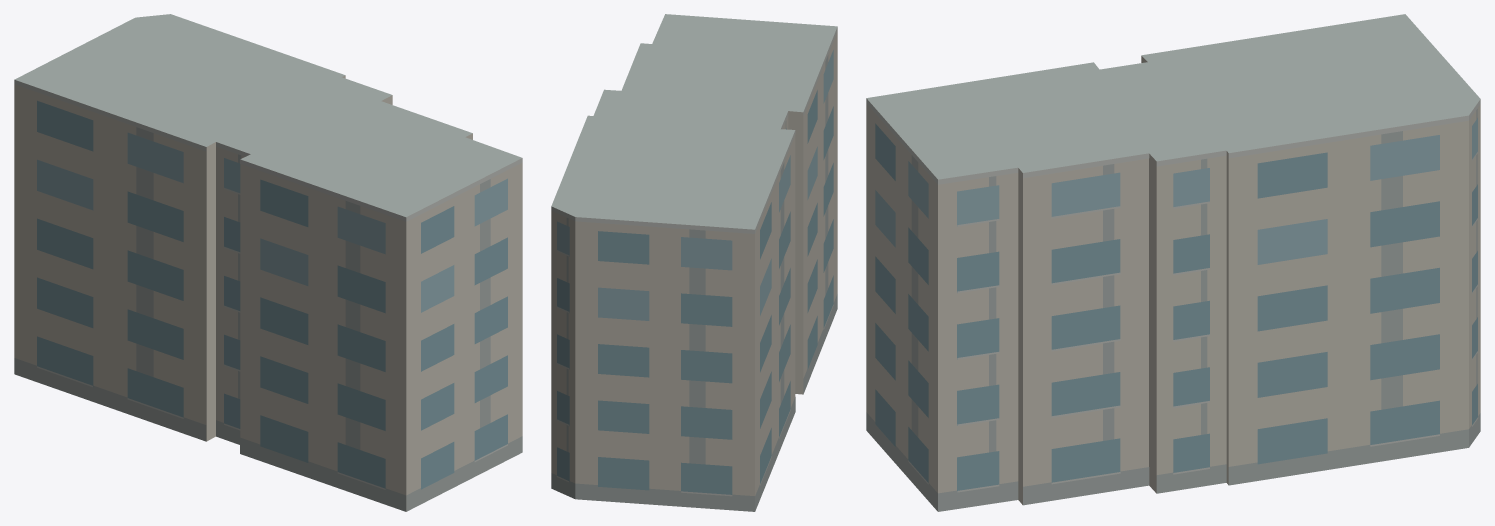
File: survey-upis-32768180.glb
3 renders of one model, left to right at view 1: azimuth 30°, elevation 25°; view 2: azimuth 150°, elevation 25°; view 3: azimuth 270°, elevation 25°, orthographic. The views are drawn at different scales.
Visible parts, largest first — view 1: survey-upis-32768180.tmp; view 2: survey-upis-32768180.tmp; view 3: survey-upis-32768180.tmp.
Boxes of the visible parts, x1,y1,x2,y2 form: survey-upis-32768180.tmp: [14, 14, 522, 511]; survey-upis-32768180.tmp: [551, 14, 837, 511]; survey-upis-32768180.tmp: [866, 14, 1480, 511].
Size of the model in its own units: 16.9 by 15.8 by 26.49.
